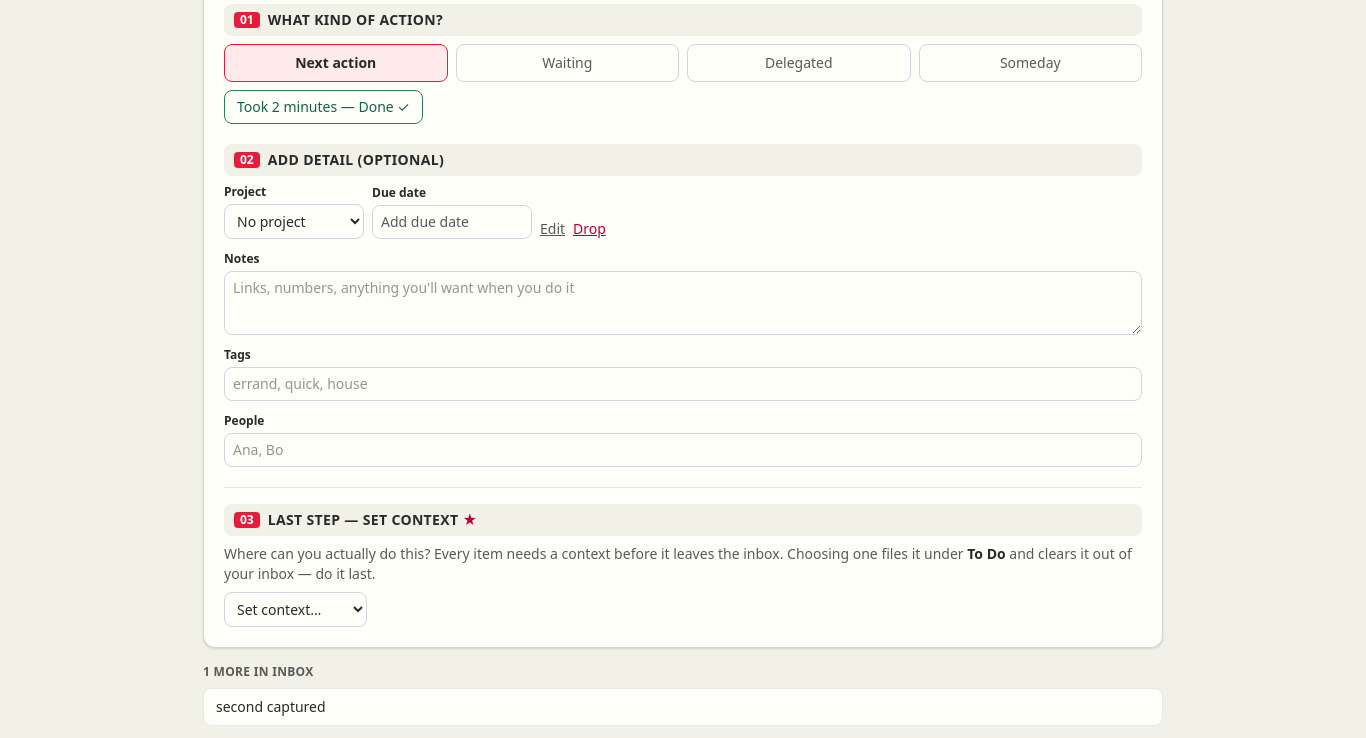
Test: InboxPage — undoing a filing (todo-gtd #2925) › promotes the restored item to the card instead of leaving it down the queue
The image size is (1366, 738).
(page scrolled)
Click the button "second captured".
click(271, 706)  # box [203, 688, 1163, 726]
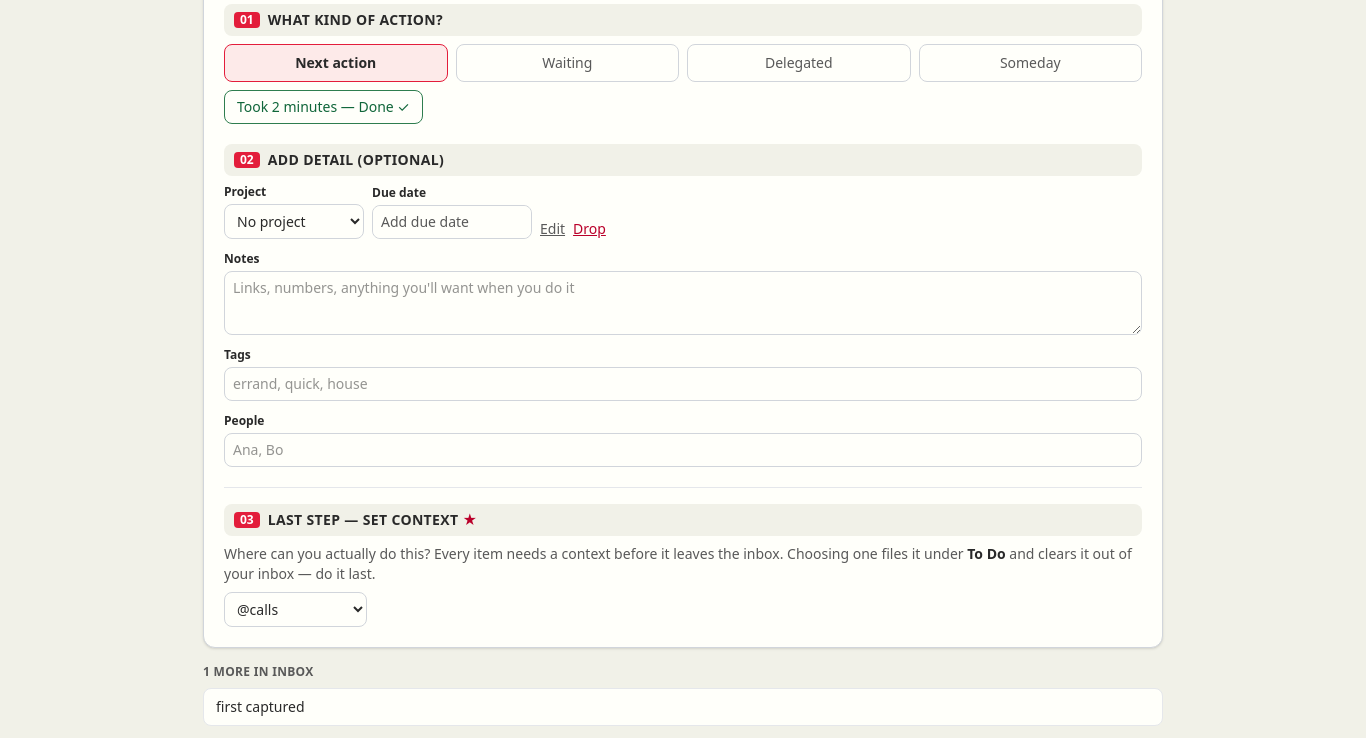
Select "@calls" in the dropdown named "Set context and file this todo" at (296,610), box [224, 592, 367, 627]
(page scrolled)
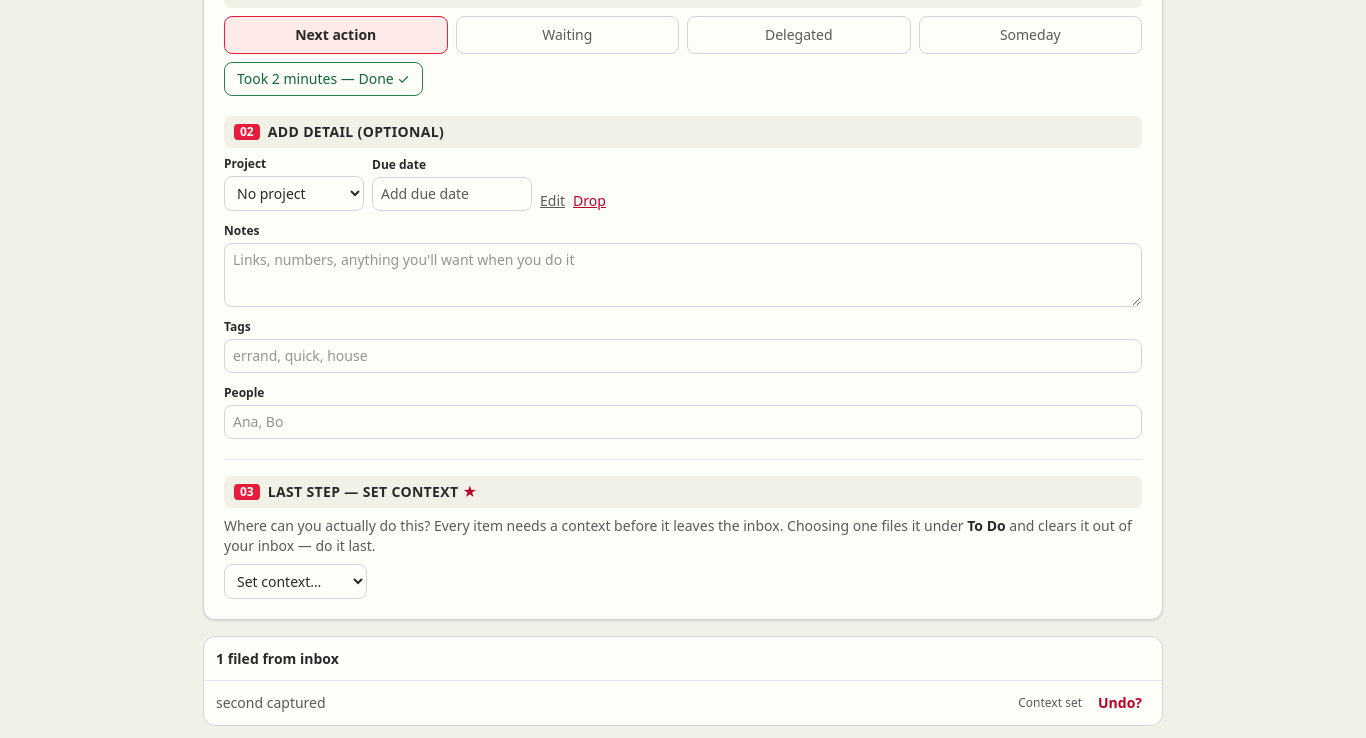
Click the button "Undo?".
click(1120, 703)  # box [1090, 689, 1150, 717]
(page scrolled)
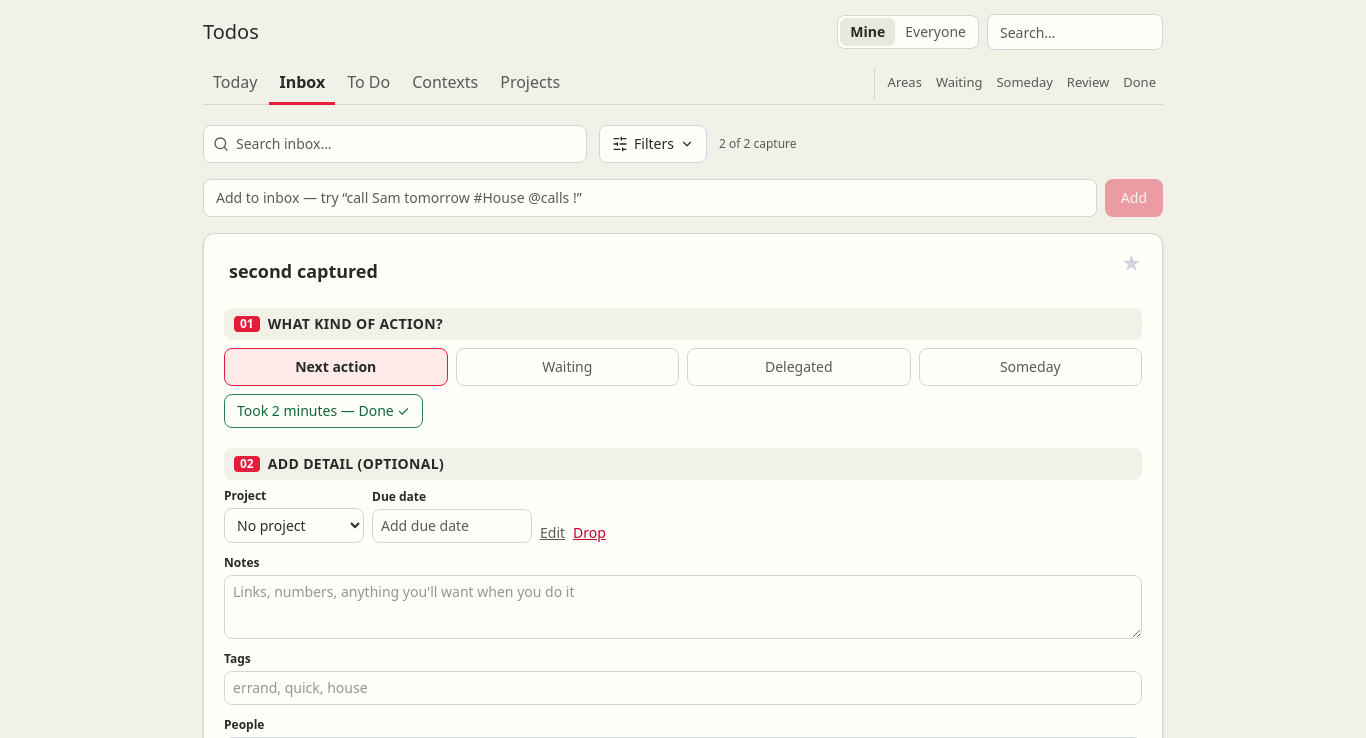
Check: the button titled "Click to rename" reads "second captured", box [224, 254, 383, 288]
